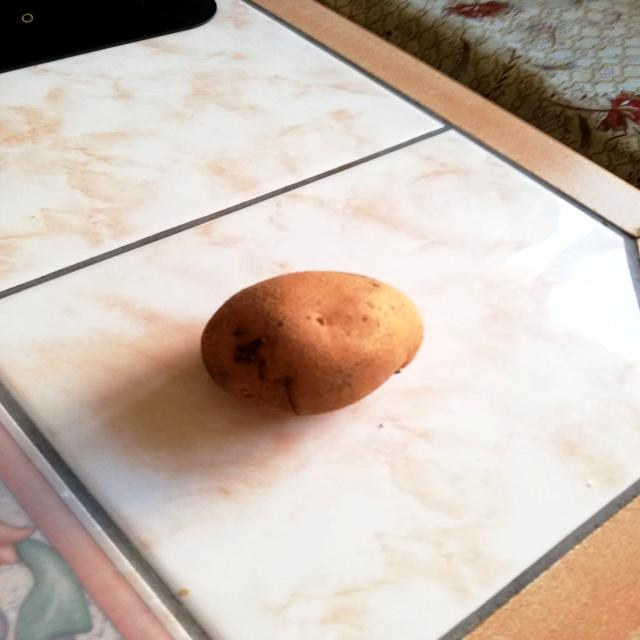potato: (190, 266, 434, 422)
